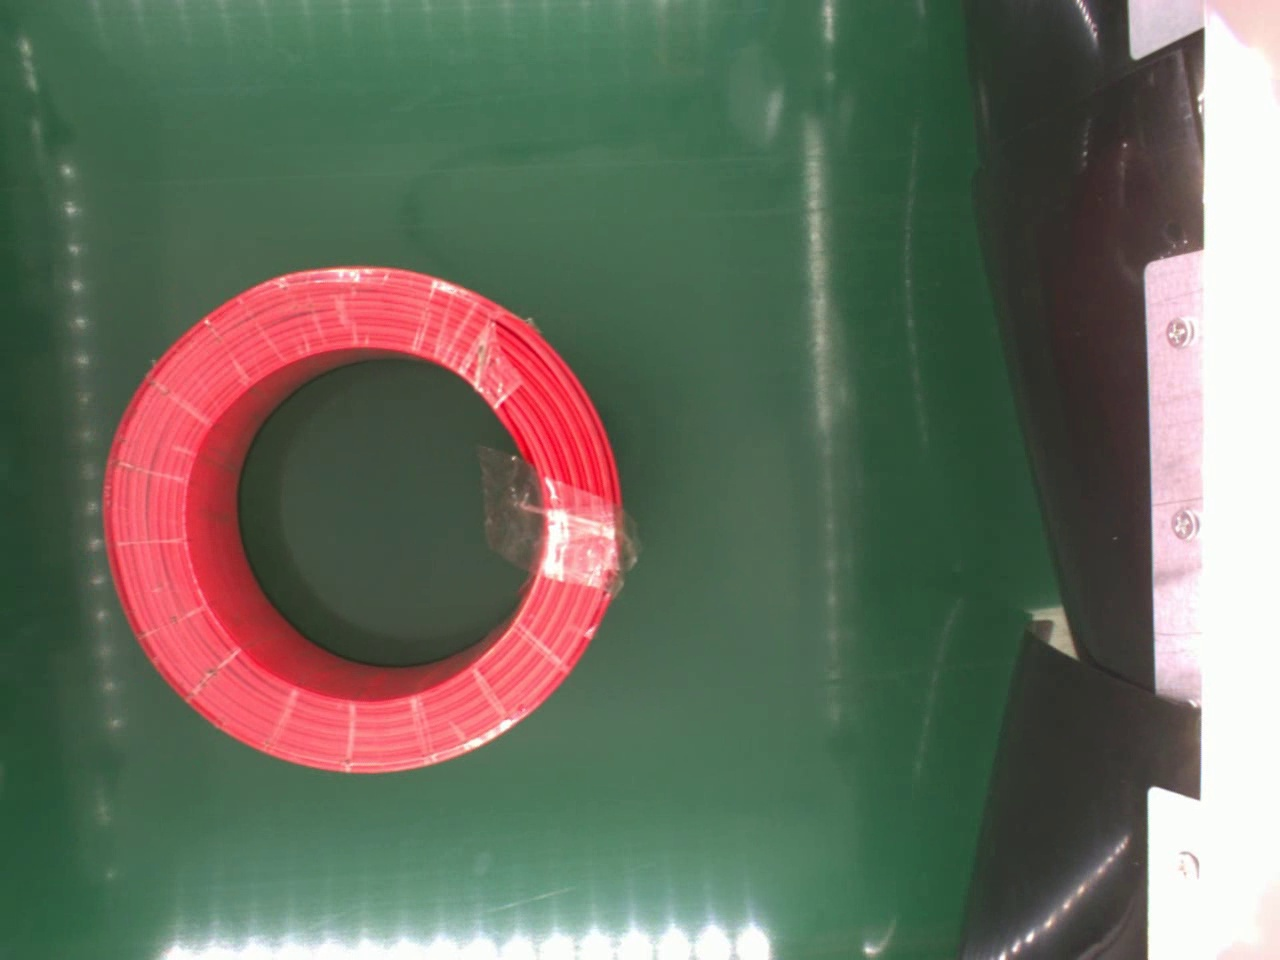red: (92, 257, 630, 784)
